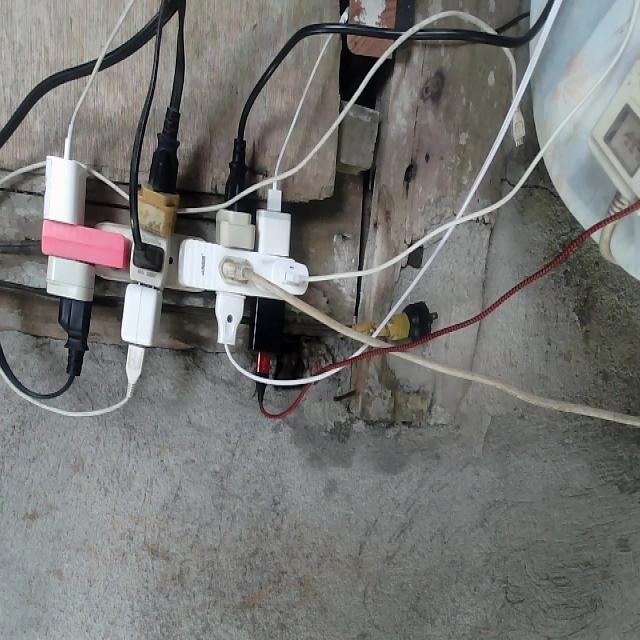-: (42, 133, 307, 375)
